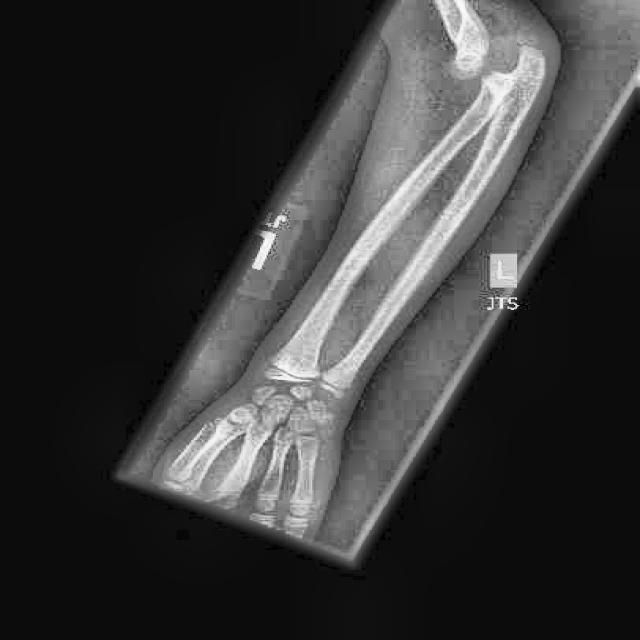forearm fracture: (458, 36, 554, 110)
